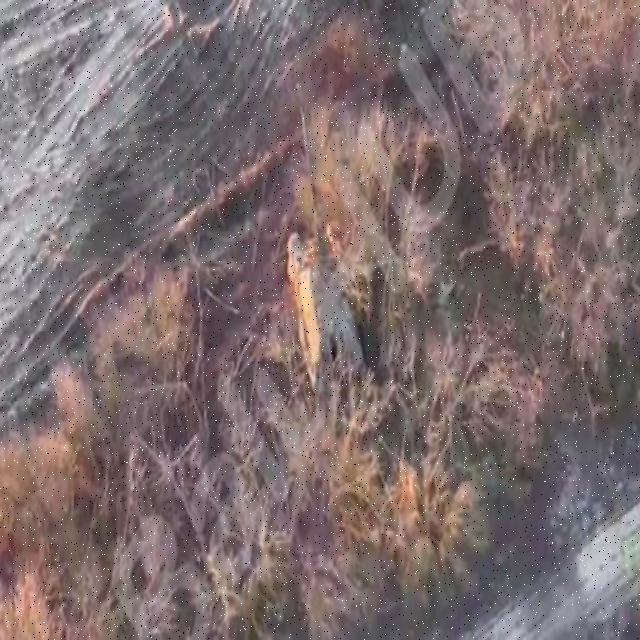ART: (277, 100, 368, 391)
